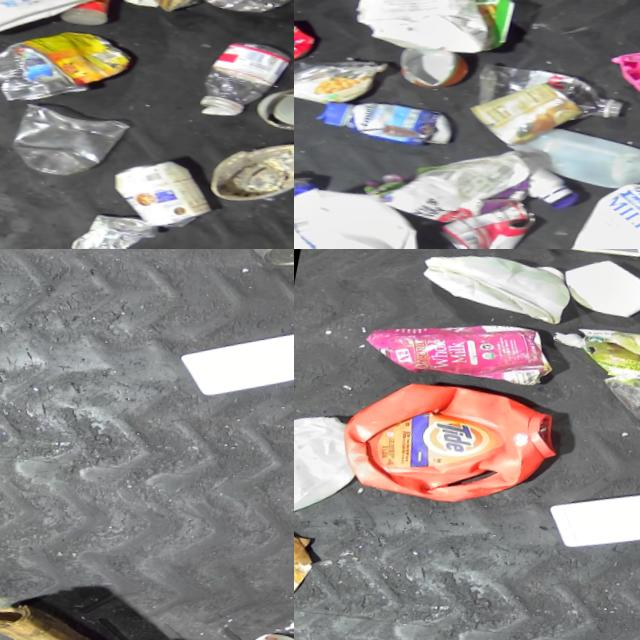can: (462, 69, 587, 170), (97, 156, 221, 248), (0, 42, 95, 121), (434, 189, 550, 249), (388, 36, 478, 104), (596, 355, 640, 450), (62, 207, 158, 249), (252, 83, 294, 151), (214, 249, 294, 284), (294, 8, 323, 77)
milk_jug: (411, 249, 579, 341), (174, 311, 294, 426), (499, 116, 640, 208), (340, 0, 511, 73), (294, 167, 435, 249), (0, 0, 149, 72), (294, 397, 366, 539), (559, 170, 640, 249)
non_white_jug: (322, 362, 571, 533)
plastic_bottle: (475, 50, 640, 136), (198, 40, 294, 139)
